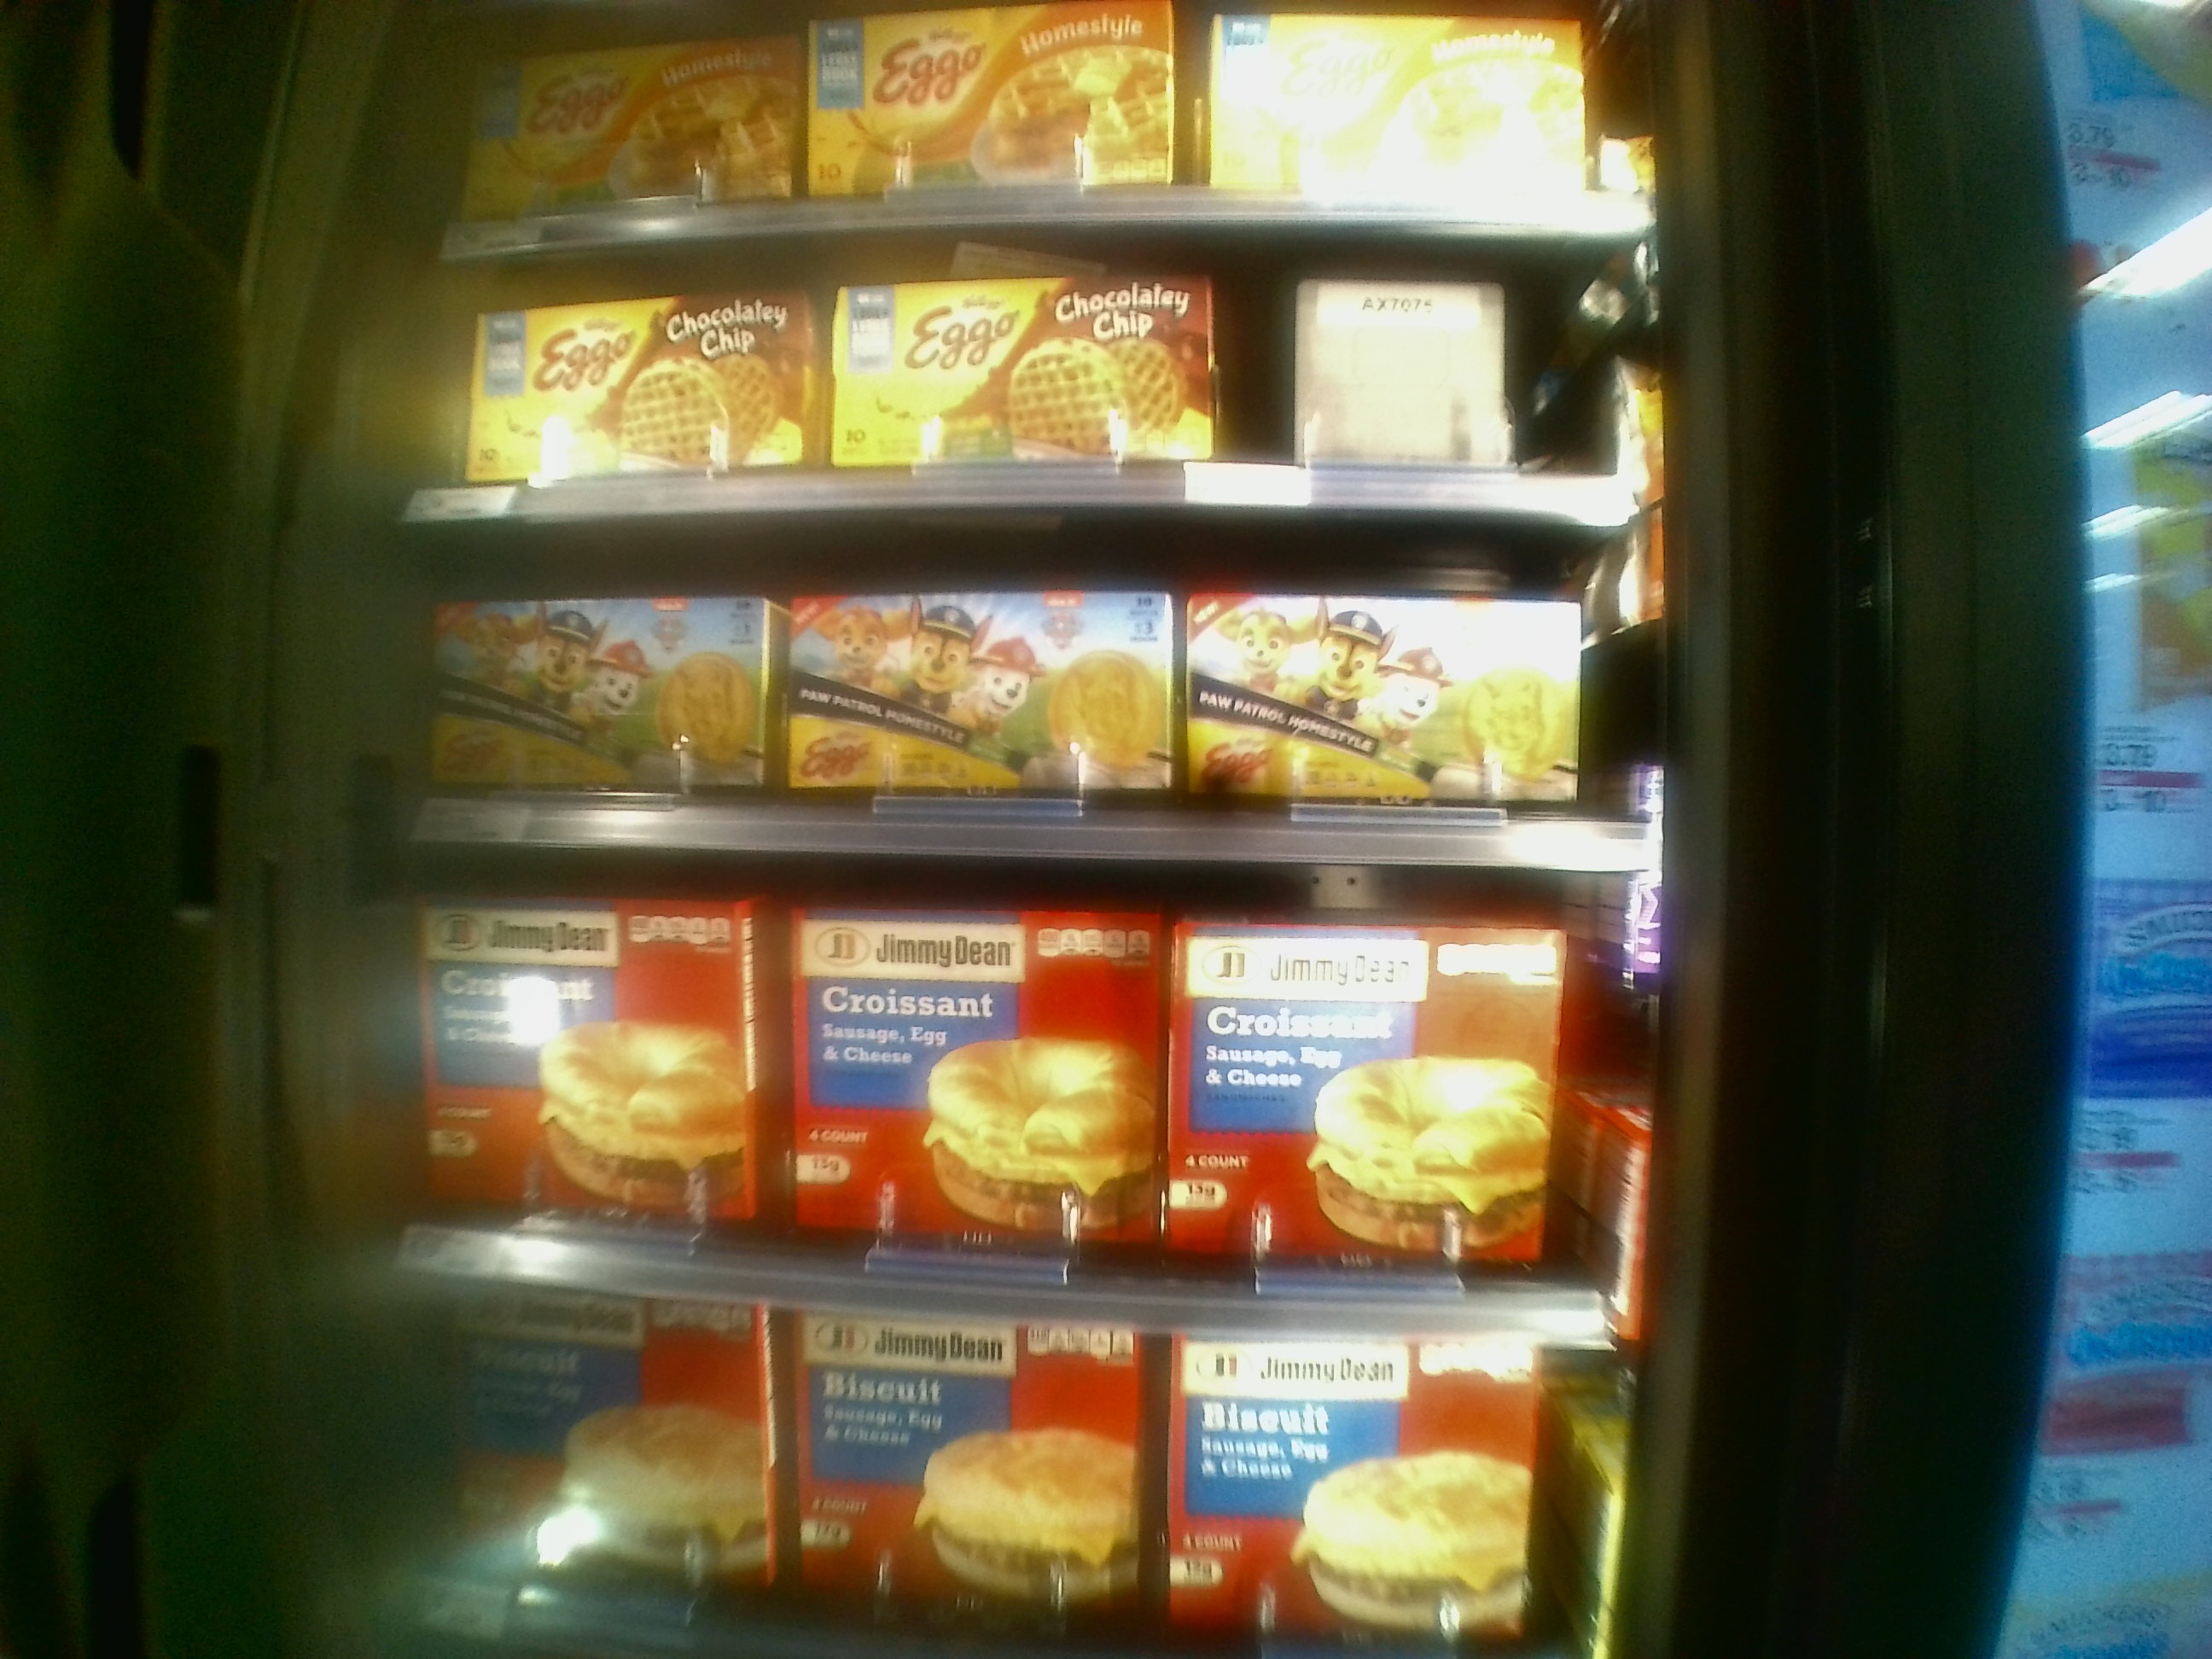shelf: (415, 849, 1658, 1337), (404, 511, 1672, 870), (409, 209, 1658, 511)
